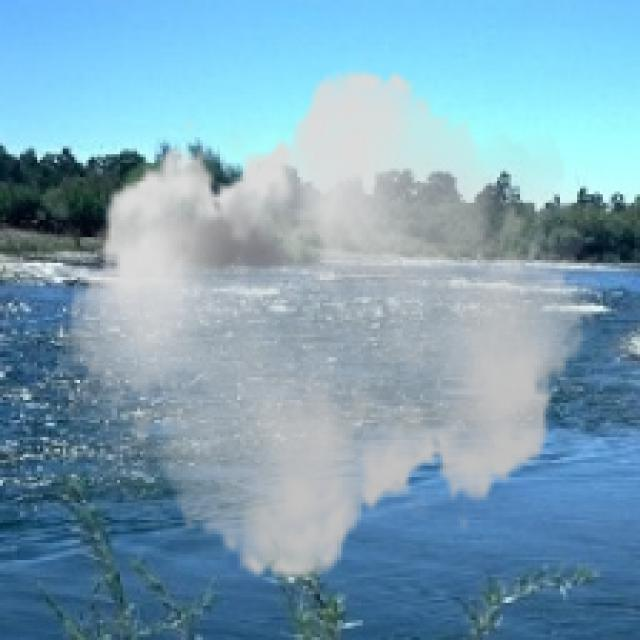Smoke: (57, 49, 597, 600)
